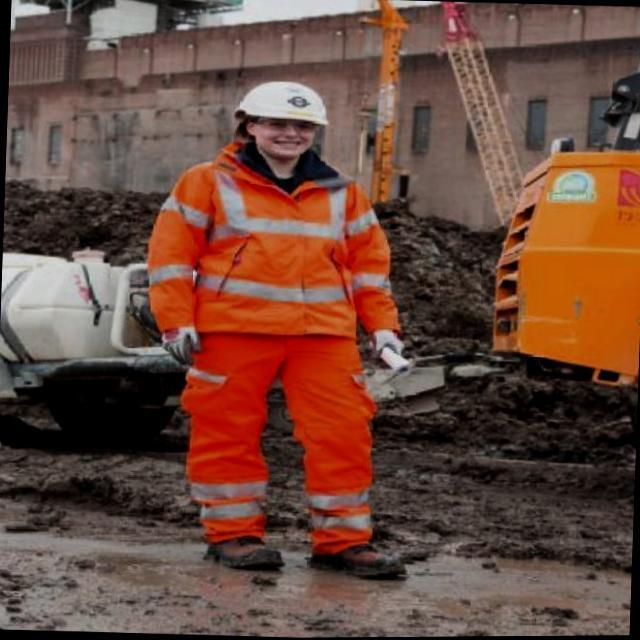goggles_on: (232, 111, 322, 140)
